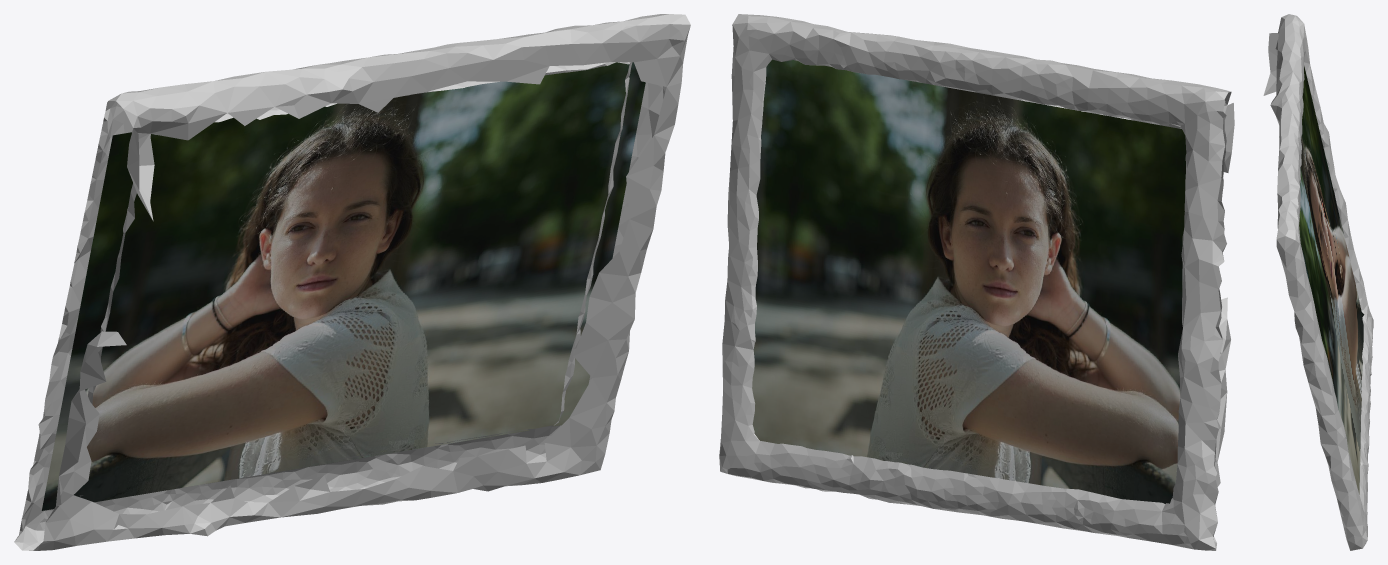
The model's file is CadreYoungClara.fbx.
3 views of the same model, side by side, from view 1: azimuth 30°, elevation 25°; view 2: azimuth 150°, elevation 25°; view 3: azimuth 270°, elevation 25° (orthographic). The views are drawn at different scales.
Visible parts, largest first — view 1: Cadre5; view 2: Cadre5; view 3: Cadre5.
Boxes of the visible parts, x1=… form: Cadre5: x1=14, y1=14, x2=690, y2=550; Cadre5: x1=719, y1=14, x2=1234, y2=550; Cadre5: x1=1263, y1=14, x2=1373, y2=550.
Bounding box in the file's own units: 42.74 × 35.65 × 9.79.
